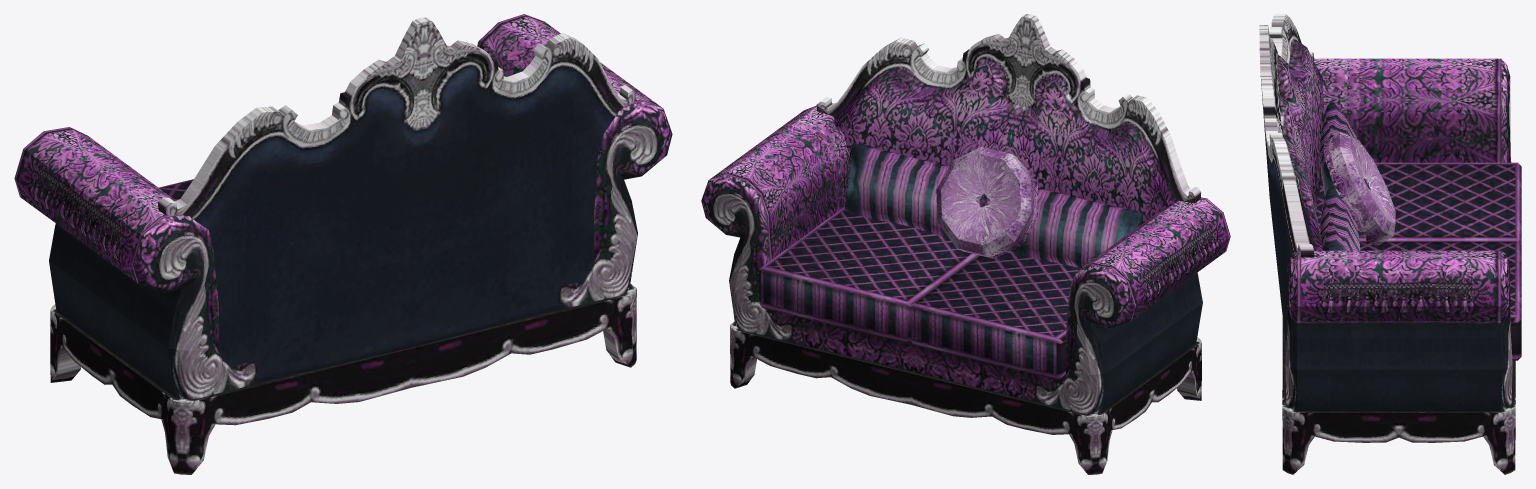
The model's file is furni_0201209_02.FBX.
3 views of the same model, side by side, from view 1: azimuth 30°, elevation 25°; view 2: azimuth 150°, elevation 25°; view 3: azimuth 270°, elevation 25° (orthographic). The views are drawn at different scales.
Visible parts, largest first — view 1: furni_0201209_02; view 2: furni_0201209_02; view 3: furni_0201209_02.
Boxes of the visible parts, x1,y1,x2,y2 form: furni_0201209_02: [14, 14, 672, 474]; furni_0201209_02: [701, 14, 1230, 474]; furni_0201209_02: [1259, 14, 1521, 474].
Size of the model in its own units: 158 by 115 by 77.62.
